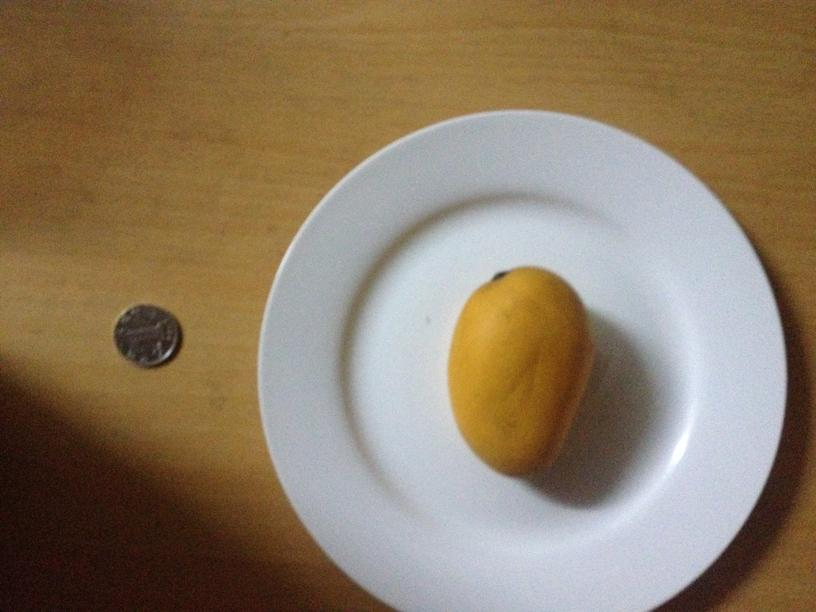coin: (112, 302, 180, 367)
mango: (451, 261, 590, 479)
